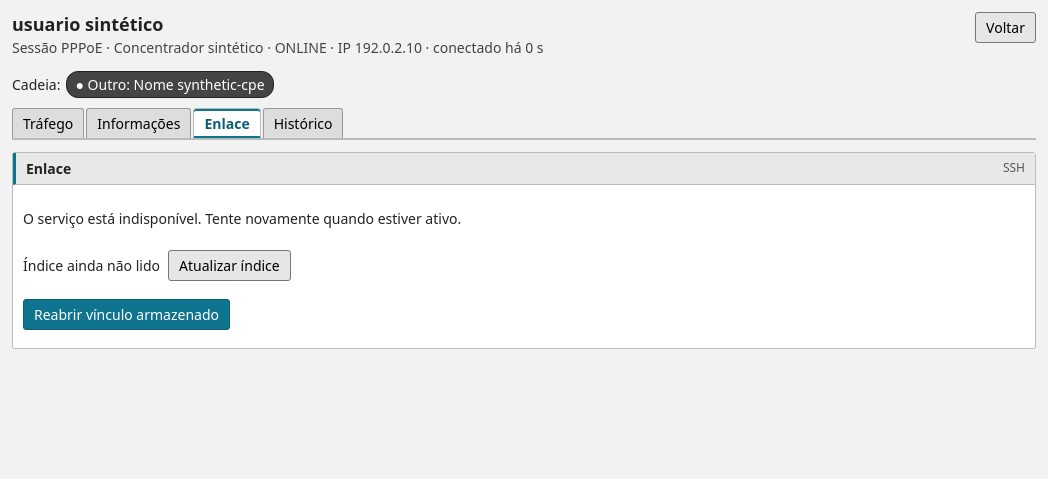
Test: reopens an unavailable stored link from the session
The image size is (1048, 479).
Click the button "Reabrir vínculo armazenado". click: (126, 314)
box: [23, 299, 230, 330]
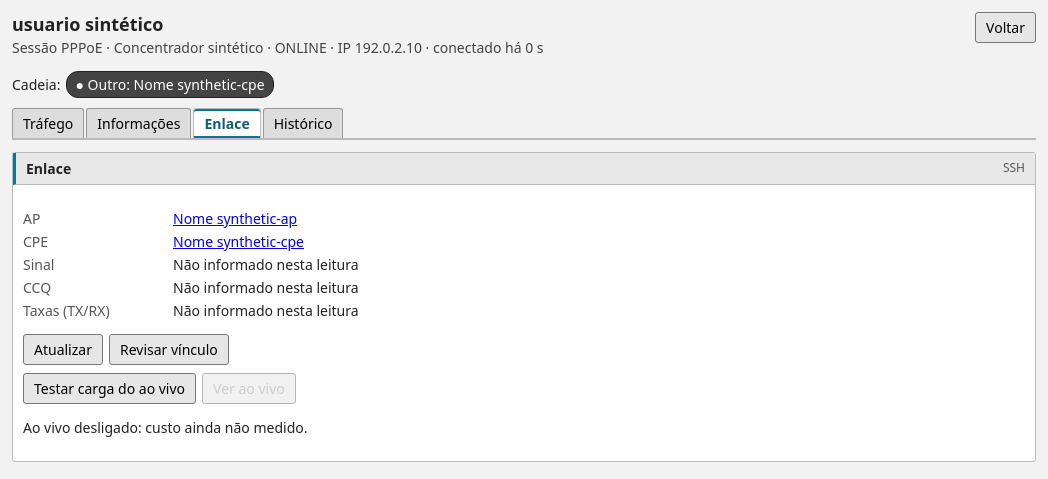
Check: the button "Revisar vínculo" is shown, box [109, 334, 229, 365]
